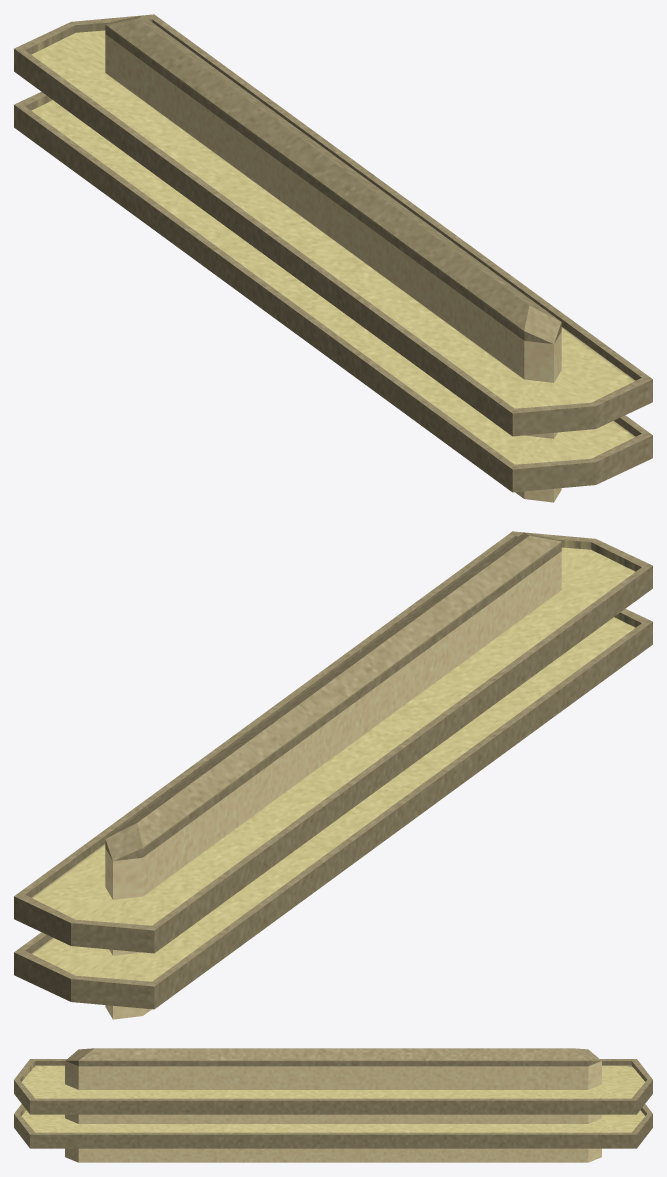
The model's file is 4twelveshelf.fbx.
3 renders of one model, top to bottom at view 1: azimuth 30°, elevation 25°; view 2: azimuth 150°, elevation 25°; view 3: azimuth 270°, elevation 25°, orthographic. The views are drawn at different scales.
Parts seen in each view (by area): view 1: Cube; view 2: Cube; view 3: Cube.
Part boxes in pixels (<box>): Cube: <box>14,14,652,502</box>; Cube: <box>14,531,652,1019</box>; Cube: <box>14,1048,652,1162</box>.
Bounding box in the file's own units: 751 × 914 × 4860.
1 material, 1 textured.
